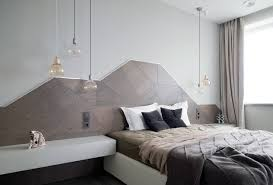bulb: (46, 58, 73, 86), (63, 41, 85, 64), (79, 71, 100, 94), (195, 73, 221, 90)
